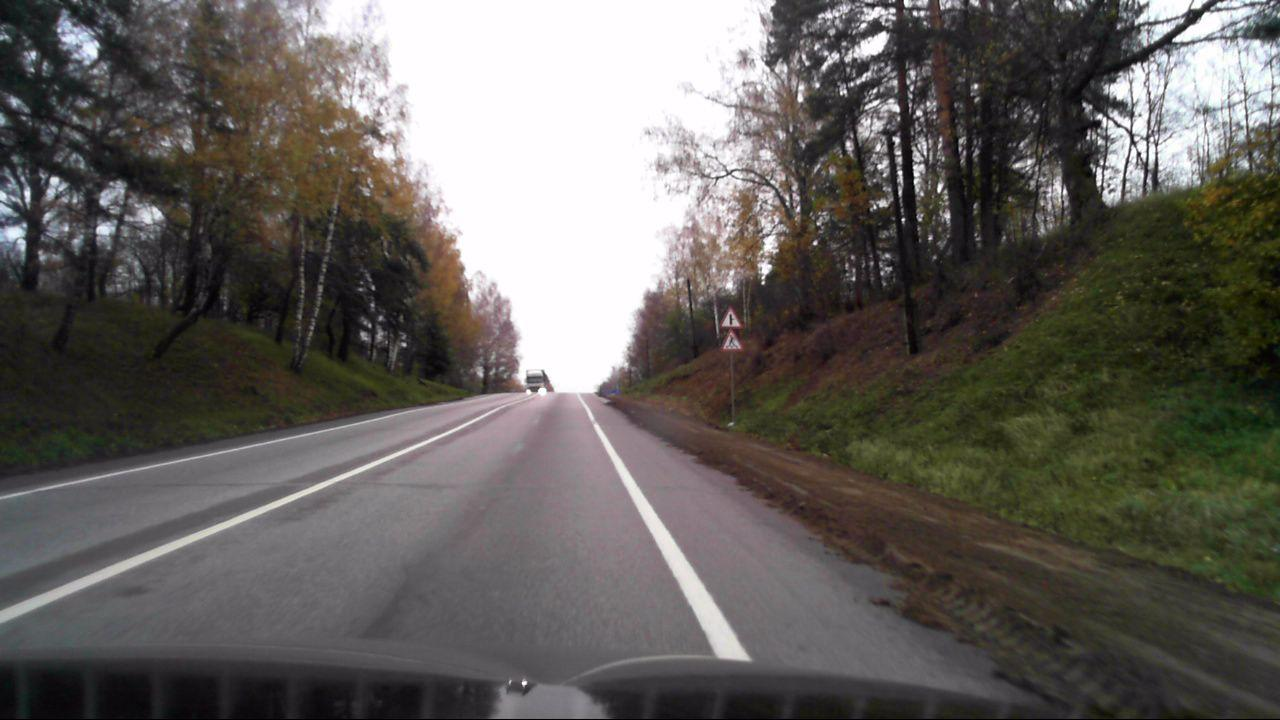1_22: (719, 329, 743, 351)
2_3_2: (718, 304, 745, 328)
